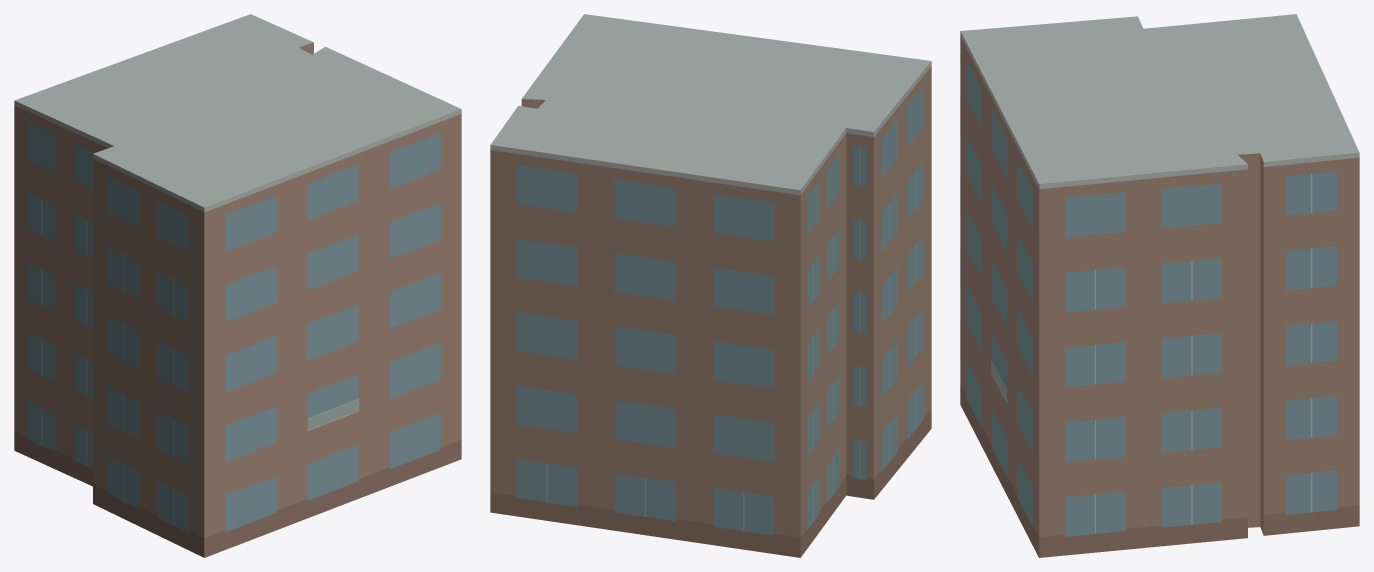
File: survey-upis-32710151.glb
3 renders of one model, left to right at view 1: azimuth 30°, elevation 25°; view 2: azimuth 150°, elevation 25°; view 3: azimuth 270°, elevation 25°, orthographic. The views are drawn at different scales.
Visible parts, largest first — view 1: survey-upis-32710151.tmp; view 2: survey-upis-32710151.tmp; view 3: survey-upis-32710151.tmp.
Boxes of the visible parts, x1,y1,x2,y2 form: survey-upis-32710151.tmp: (14, 14, 461, 557); survey-upis-32710151.tmp: (490, 14, 931, 557); survey-upis-32710151.tmp: (960, 14, 1359, 557).
Bounding box in the file's own units: 17.48 × 17.9 × 17.33.
